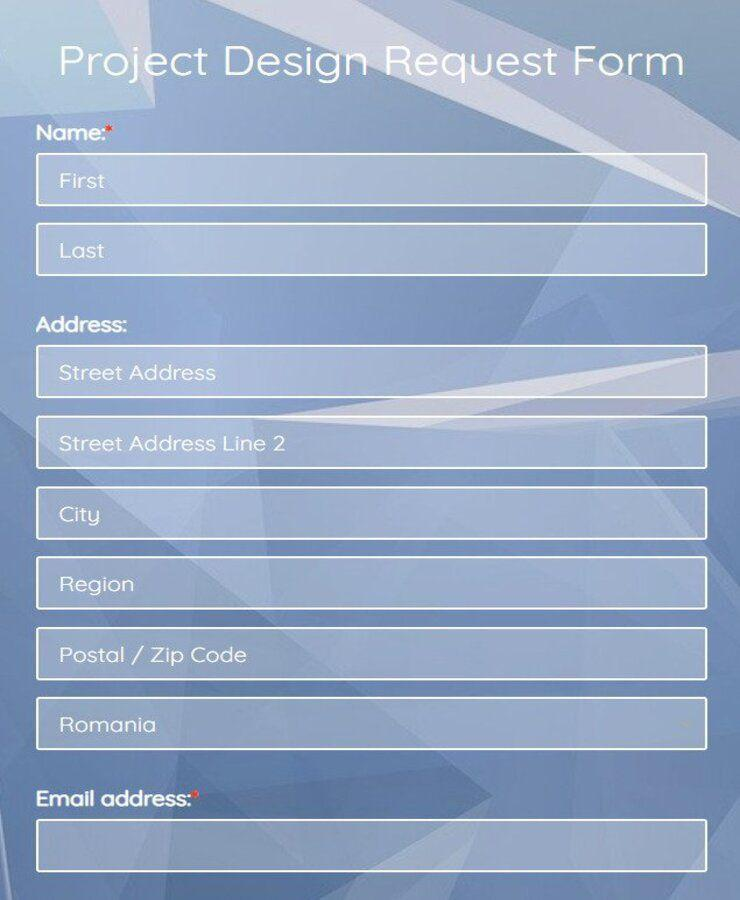input: (39, 626, 706, 682), (38, 486, 709, 541), (38, 557, 708, 612), (39, 223, 707, 278), (38, 820, 709, 874), (37, 154, 707, 208), (39, 699, 709, 753), (37, 346, 708, 399), (36, 416, 708, 467)
label: (37, 788, 200, 816), (35, 116, 116, 146), (35, 315, 134, 339)
